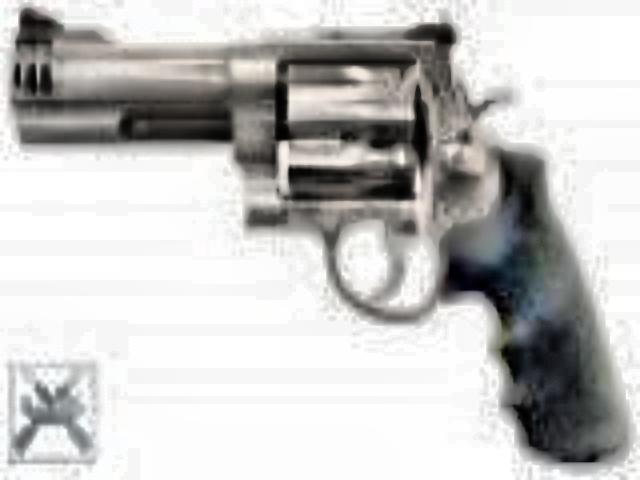pistol: (0, 0, 620, 468)
